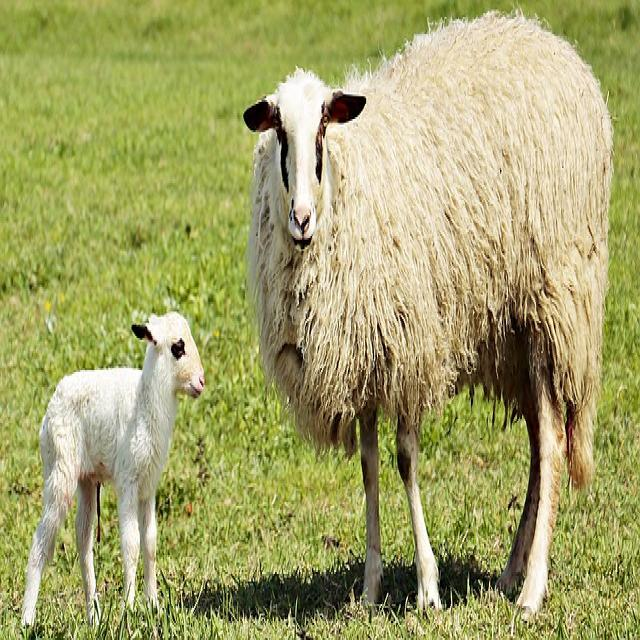goat: (241, 13, 614, 617), (20, 313, 208, 629)
